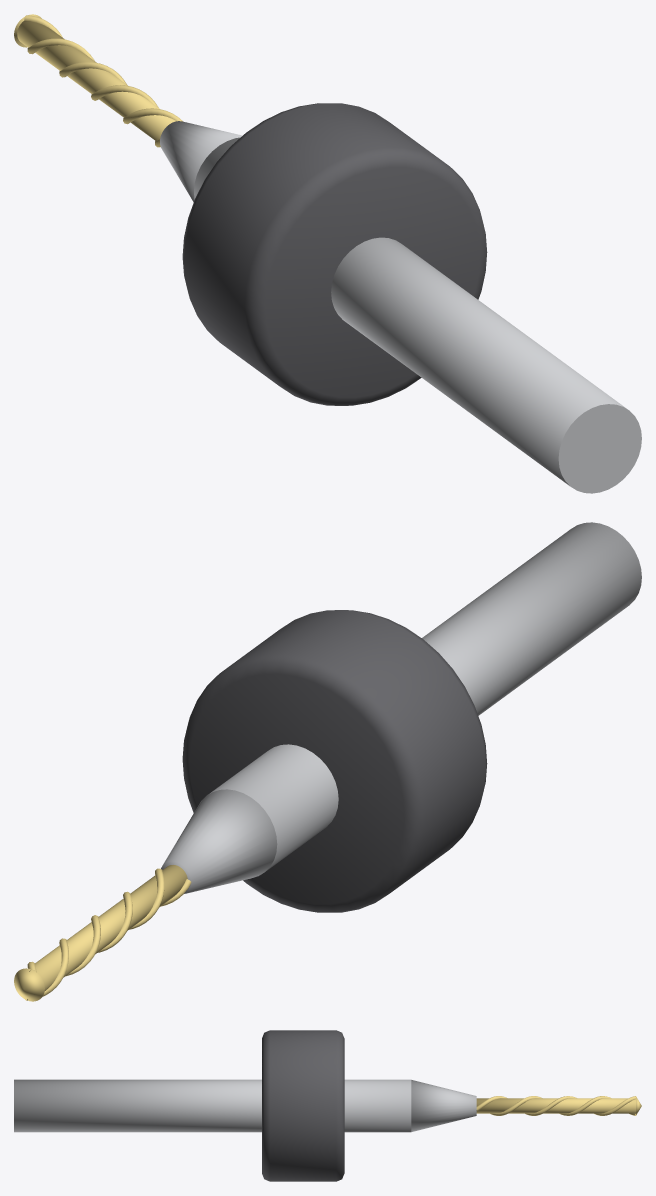
Rendered from drill18_1p2.glb.
The picture shows the model from 3 angles, top to bottom: view 1: azimuth 30°, elevation 25°; view 2: azimuth 150°, elevation 25°; view 3: azimuth 270°, elevation 25°; orthographic projection. The views are drawn at different scales.
Visible parts, largest first — view 1: Cylinder.002, Cylinder.001, Cylinder, Cone, flute, flute.001; view 2: Cylinder.002, Cylinder.001, Cone, Cylinder, flute.001, flute, Cone.001; view 3: Cylinder.001, Cylinder.002, Cone, Cylinder, flute, flute.001.
Part boxes in pixels (x1,y1,x2,y2): Cylinder.002: [182, 103, 487, 405]; Cylinder.001: [194, 137, 641, 493]; Cylinder: [17, 21, 175, 142]; Cone: [160, 121, 242, 202]; flute: [24, 15, 182, 124]; flute.001: [27, 38, 160, 147]; Cylinder.002: [182, 610, 487, 912]; Cylinder.001: [208, 522, 641, 871]; Cone: [161, 789, 277, 893]; Cylinder: [33, 865, 187, 990]; flute.001: [25, 879, 191, 1000]; flute: [27, 868, 164, 976]; Cone.001: [14, 968, 44, 1001]; Cylinder.001: [14, 1079, 411, 1132]; Cylinder.002: [262, 1030, 344, 1181]; Cone: [411, 1080, 476, 1131]; Cylinder: [476, 1098, 635, 1113]; flute: [476, 1096, 637, 1115]; flute.001: [490, 1096, 636, 1115].
Bounding box in the file's own units: 0.00917 × 0.00917 × 0.038.
